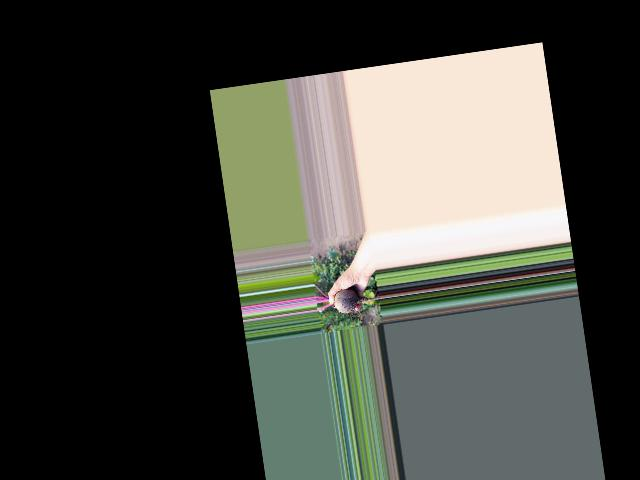beet: (313, 274, 383, 326)
